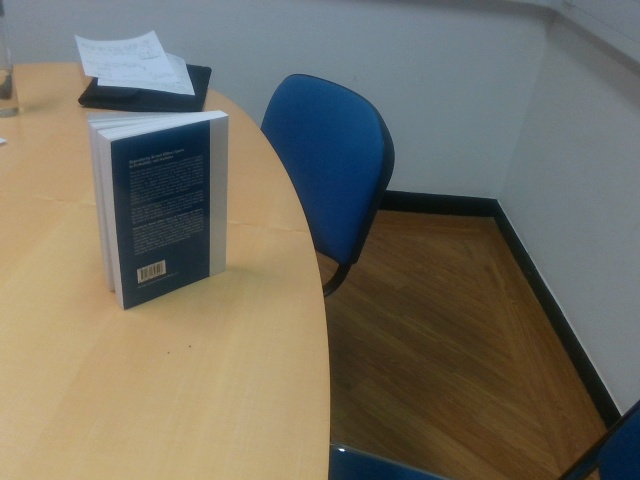book: (86, 109, 229, 311)
